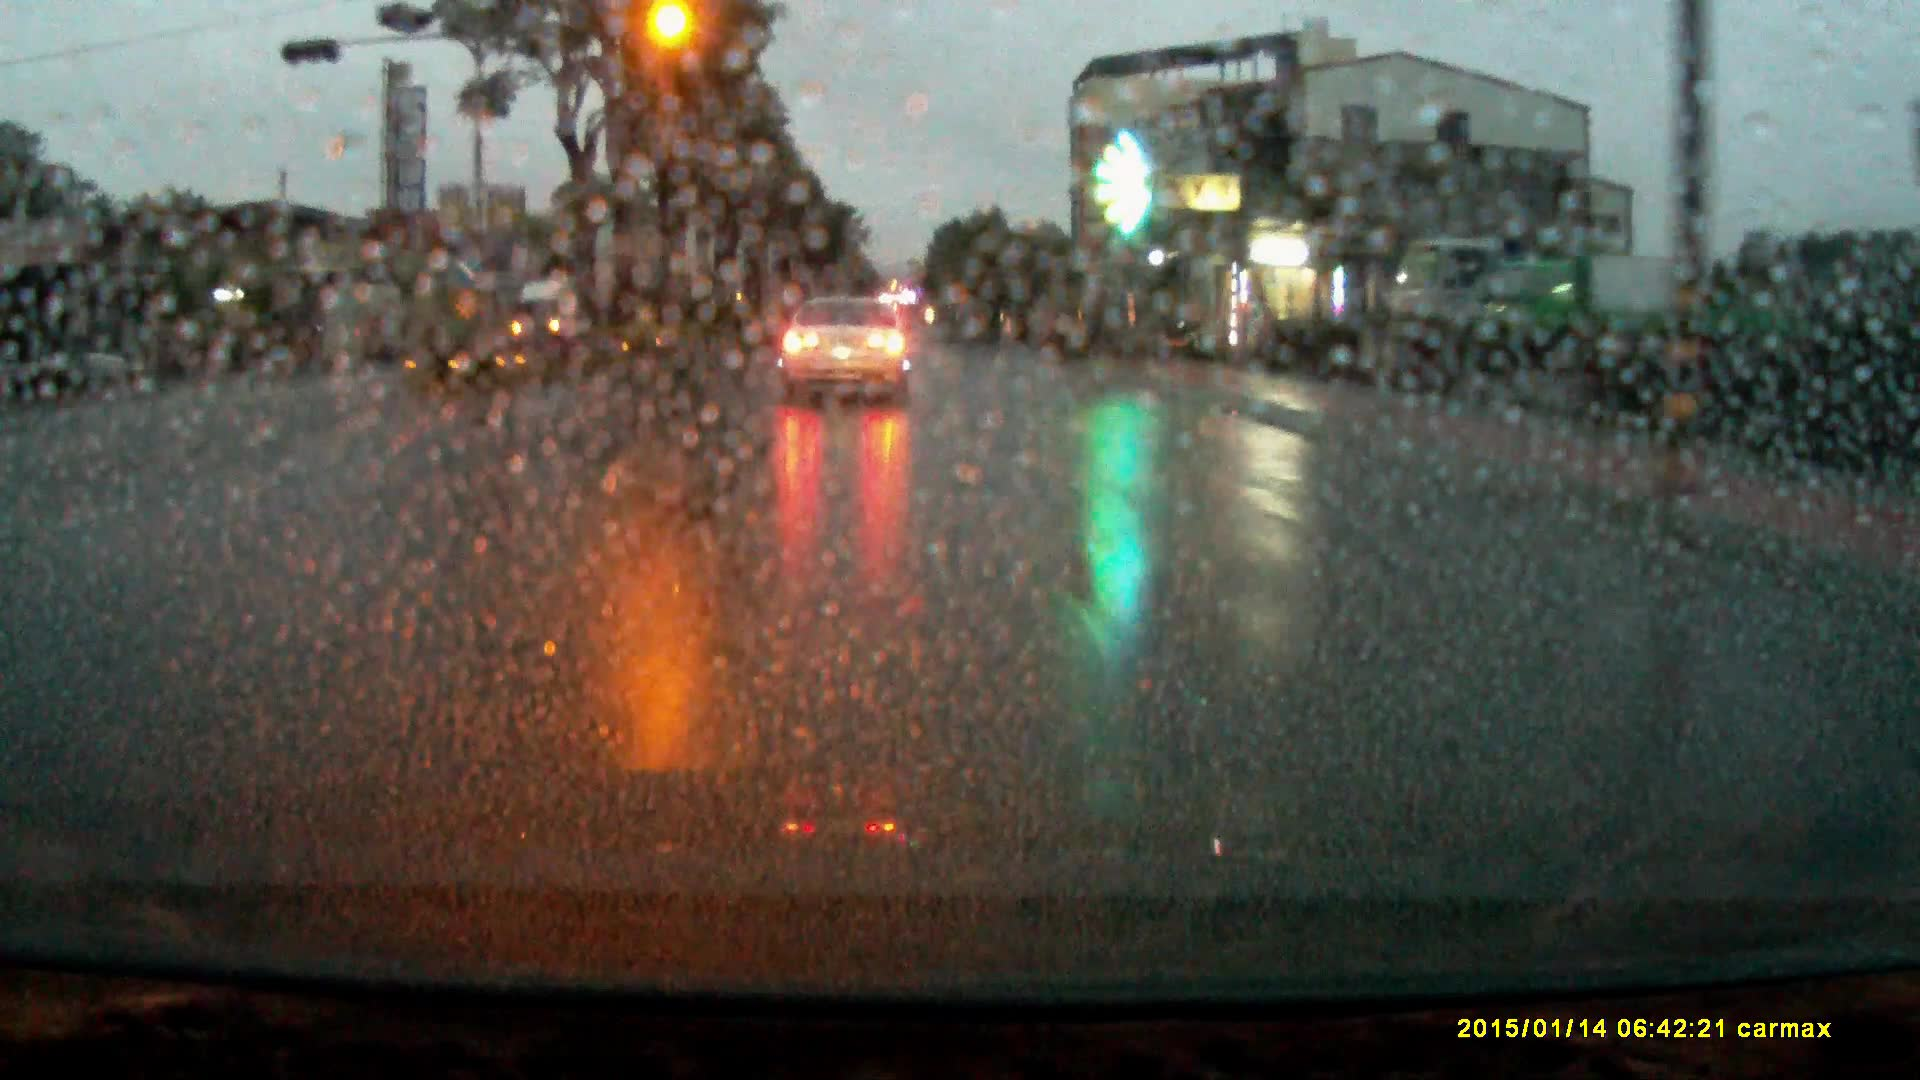vehicle: (1480, 253, 1709, 357), (777, 294, 916, 404), (1400, 231, 1513, 359), (513, 277, 588, 351)
